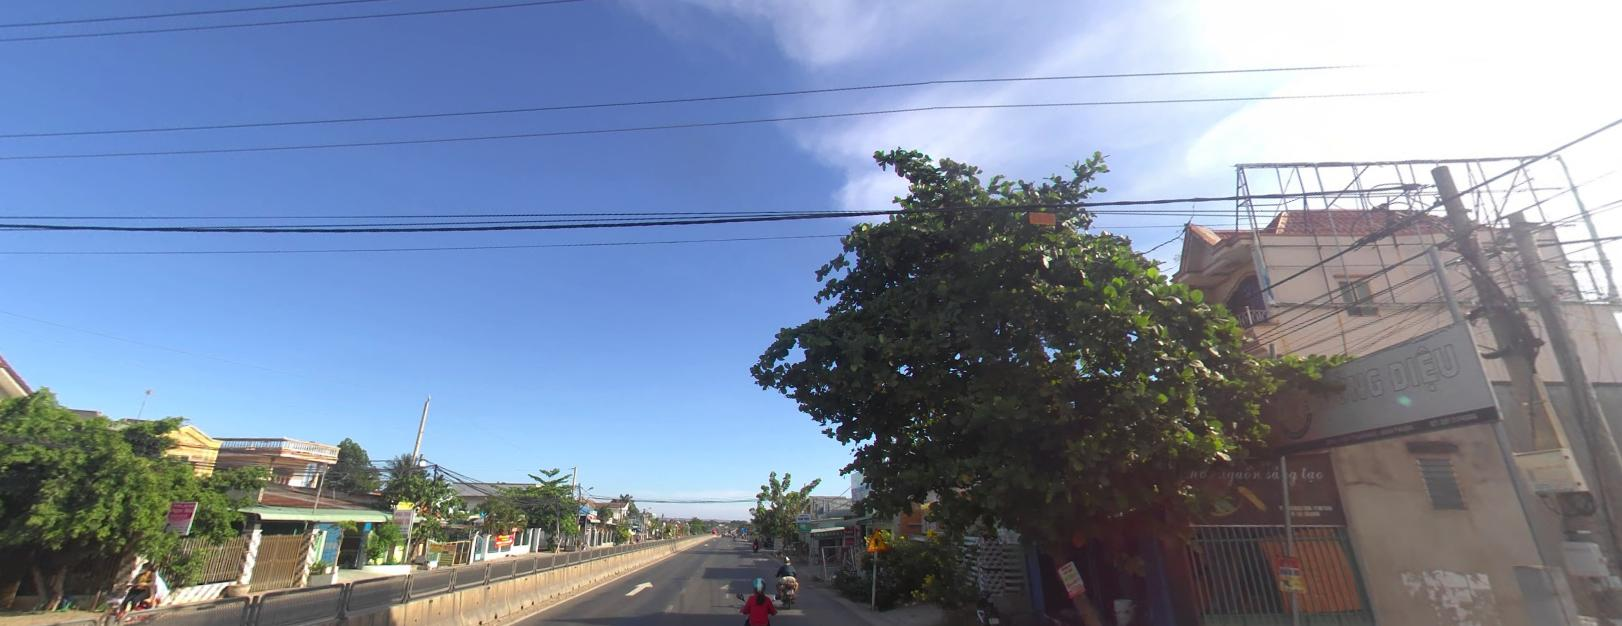Nguy hiem: (866, 524, 889, 552)
